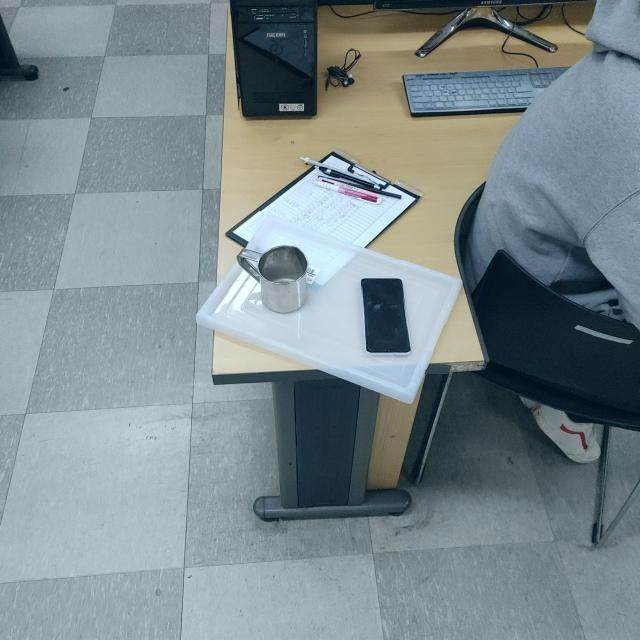cup: (236, 242, 311, 314)
phone: (360, 277, 411, 354)
